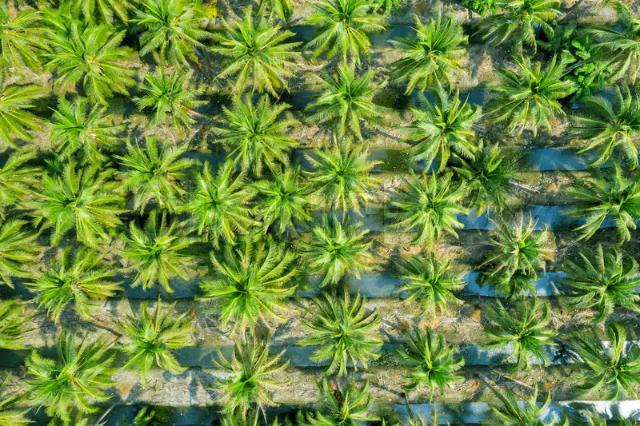trees: (198, 244, 304, 333), (20, 333, 125, 422), (28, 160, 128, 249), (207, 11, 306, 100), (297, 291, 390, 380), (487, 51, 584, 135), (534, 21, 636, 100), (42, 19, 139, 102), (109, 299, 200, 386), (388, 329, 472, 422), (399, 87, 488, 174), (207, 336, 293, 423), (215, 96, 304, 179), (27, 248, 123, 324), (306, 64, 393, 143), (113, 216, 201, 294), (475, 210, 554, 296), (387, 170, 473, 249), (177, 165, 258, 248), (111, 135, 199, 210), (304, 140, 387, 217), (479, 297, 564, 371), (298, 214, 380, 289), (128, 3, 215, 69), (300, 3, 388, 67), (42, 95, 127, 161), (565, 325, 640, 399), (563, 170, 639, 243), (566, 249, 640, 321), (391, 254, 471, 320), (571, 97, 640, 170), (474, 2, 568, 55), (454, 143, 527, 211), (247, 164, 313, 238), (132, 68, 206, 133), (21, 4, 92, 63), (306, 380, 381, 426), (2, 146, 53, 211), (2, 84, 57, 144), (486, 385, 566, 426), (2, 212, 45, 285), (2, 361, 43, 423), (1, 301, 41, 351)
